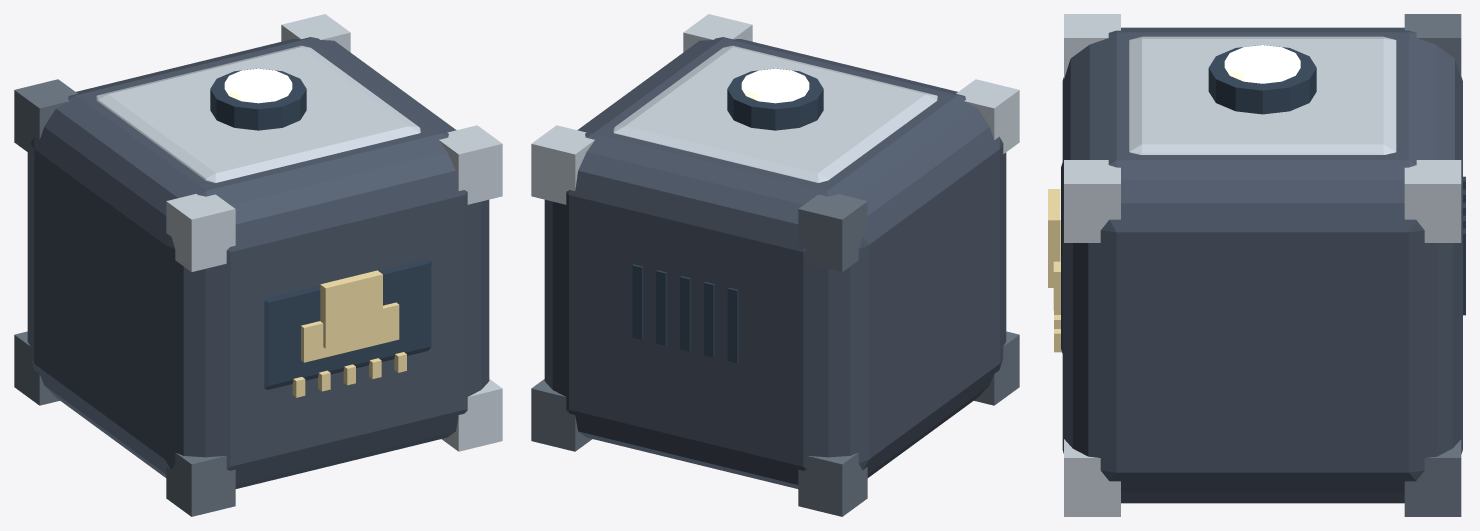
Rendered from box_bonus_detail.glb.
3 views of the same model, side by side, from view 1: azimuth 30°, elevation 25°; view 2: azimuth 150°, elevation 25°; view 3: azimuth 270°, elevation 25° (orthographic). The views are drawn at different scales.
Visible parts, largest first — view 1: sci_fi_chassis, reinforced_lid, front_interface_armor, outer_corner_joint_011, bonus_front_emblem, outer_corner_joint_010, outer_corner_joint_111, top_lock, outer_corner_joint_110, outer_corner_joint_001, front_hologram_window, top_lock_energy (+2 smaller); view 2: sci_fi_chassis, reinforced_lid, outer_corner_joint_001, outer_corner_joint_000, outer_corner_joint_101, top_lock, outer_corner_joint_100, outer_corner_joint_011, top_lock_energy, outer_corner_joint_010, outer_corner_joint_111, rear_heat_vents_-2 (+4 smaller); view 3: sci_fi_chassis, reinforced_lid, outer_corner_joint_101, outer_corner_joint_111, top_lock, outer_corner_joint_100, outer_corner_joint_110, top_lock_energy, outer_corner_joint_001, outer_corner_joint_011, bonus_front_emblem.
Boxes of the visible parts, <box> form: sci_fi_chassis: <box>27,37,489,488</box>; reinforced_lid: <box>96,45,420,182</box>; front_interface_armor: <box>264,258,431,389</box>; outer_corner_joint_011: <box>166,194,235,271</box>; bonus_front_emblem: <box>320,270,382,348</box>; outer_corner_joint_010: <box>166,452,235,516</box>; outer_corner_joint_111: <box>439,125,502,204</box>; top_lock: <box>210,68,306,130</box>; outer_corner_joint_110: <box>441,379,502,451</box>; outer_corner_joint_001: <box>14,79,77,153</box>; front_hologram_window: <box>301,302,399,362</box>; top_lock_energy: <box>224,68,292,103</box>; sci_fi_chassis: <box>544,37,1006,488</box>; reinforced_lid: <box>613,45,937,182</box>; outer_corner_joint_001: <box>798,194,867,271</box>; outer_corner_joint_000: <box>798,452,867,516</box>; outer_corner_joint_101: <box>531,125,594,204</box>; top_lock: <box>727,68,823,130</box>; outer_corner_joint_100: <box>531,379,592,451</box>; outer_corner_joint_011: <box>956,79,1019,153</box>; top_lock_energy: <box>741,68,809,103</box>; outer_corner_joint_010: <box>974,331,1019,405</box>; outer_corner_joint_111: <box>683,14,752,52</box>; rear_heat_vents_-2: <box>727,287,738,363</box>; sci_fi_chassis: <box>1062,27,1462,503</box>; reinforced_lid: <box>1129,36,1396,154</box>; outer_corner_joint_101: <box>1404,160,1461,242</box>; outer_corner_joint_111: <box>1064,160,1120,242</box>; top_lock: <box>1208,45,1316,114</box>; outer_corner_joint_100: <box>1404,439,1461,516</box>; outer_corner_joint_110: <box>1064,439,1120,516</box>; top_lock_energy: <box>1224,45,1300,83</box>; outer_corner_joint_001: <box>1404,14,1461,78</box>; outer_corner_joint_011: <box>1064,14,1120,78</box>; bonus_front_emblem: <box>1048,189,1060,287</box>.
Bounding box in the file's own units: 1.52 × 1.52 × 1.54.
